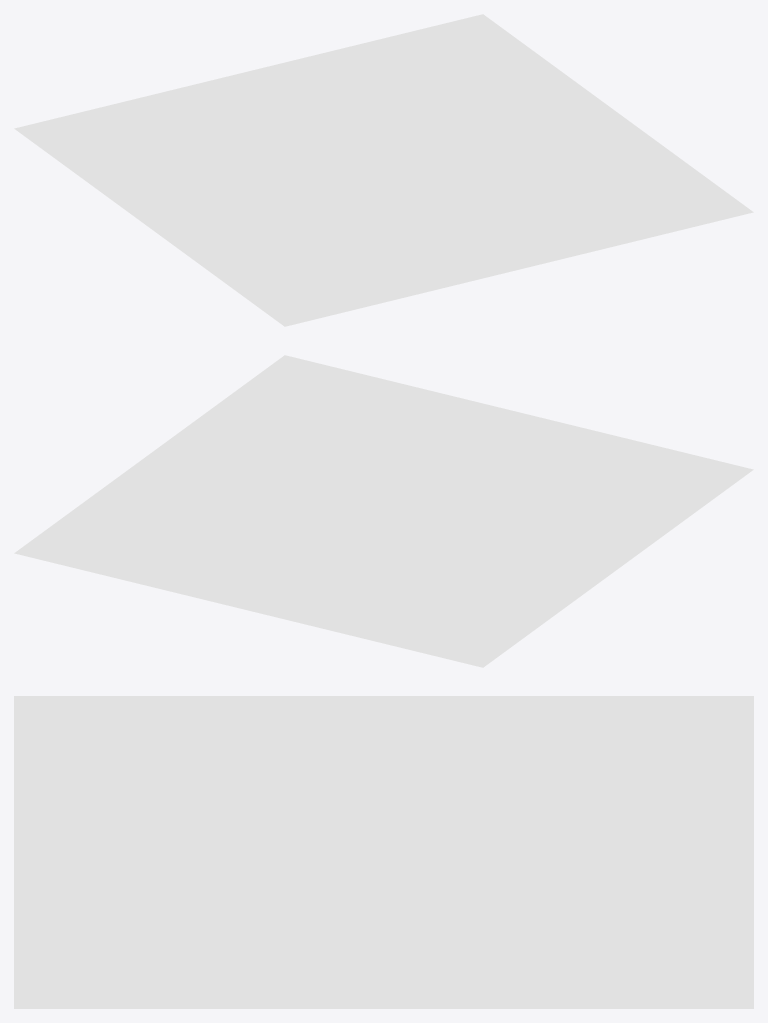
Rendered from TOP_WHITE.gltf.
3 views of the same model, one above another, from view 1: azimuth 30°, elevation 25°; view 2: azimuth 150°, elevation 25°; view 3: azimuth 270°, elevation 25° (orthographic). The views are drawn at different scales.
Parts seen in each view (by area): view 1: TOP; view 2: TOP; view 3: TOP.
Boxes of the visible parts, <box> form: TOP: <box>14,14,753,326</box>; TOP: <box>14,355,753,667</box>; TOP: <box>14,696,753,1008</box>.
Size of the model in its own units: 1.75 by 0 by 1.75.
1 material, 1 textured.
